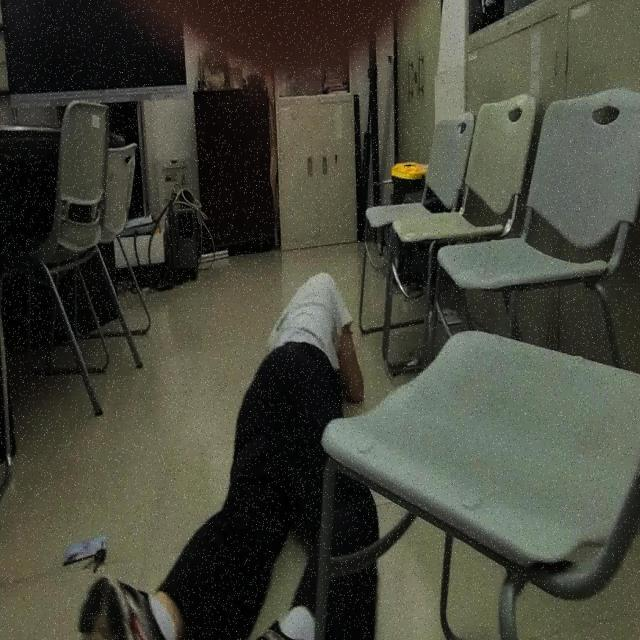fall: (78, 272, 378, 640)
